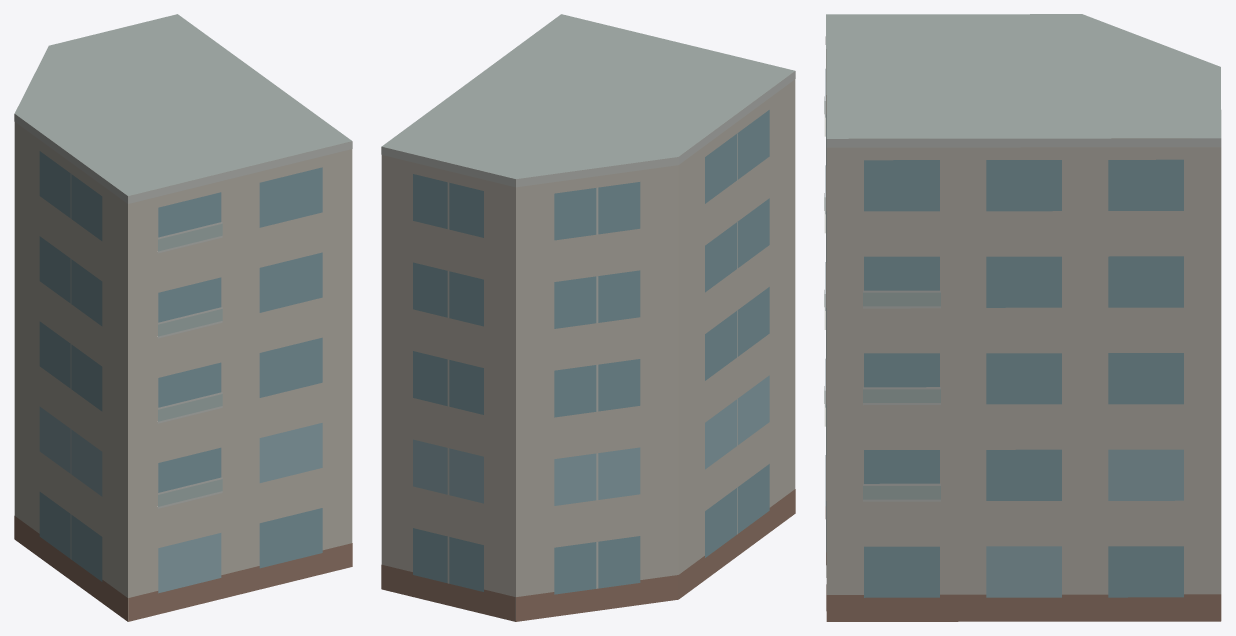
File: survey-upis-32710198.glb
The picture shows the model from 3 angles, left to right: view 1: azimuth 30°, elevation 25°; view 2: azimuth 150°, elevation 25°; view 3: azimuth 270°, elevation 25°; orthographic projection. The views are drawn at different scales.
Visible parts, largest first — view 1: survey-upis-32710198.tmp; view 2: survey-upis-32710198.tmp; view 3: survey-upis-32710198.tmp.
Boxes of the visible parts, x1,y1,x2,y2 form: survey-upis-32710198.tmp: (14,14,352,621); survey-upis-32710198.tmp: (381,14,795,621); survey-upis-32710198.tmp: (824,14,1221,621).
Size of the model in its own units: 7.35 by 13.2 by 9.84.
